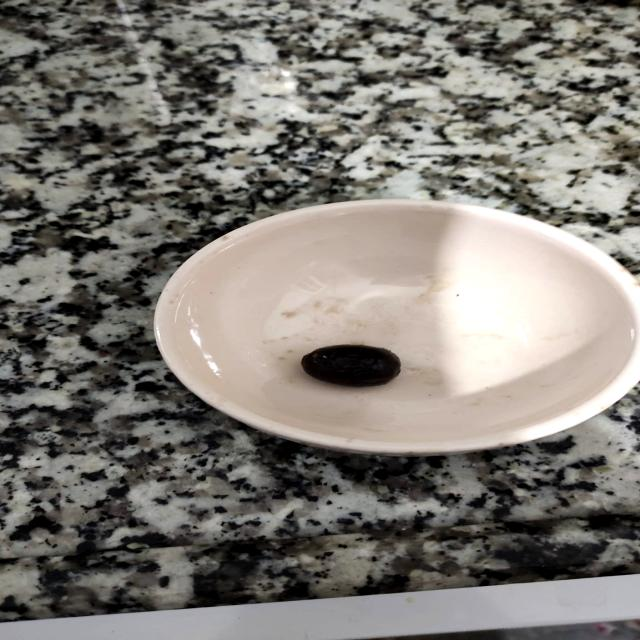olive: (282, 328, 416, 396)
